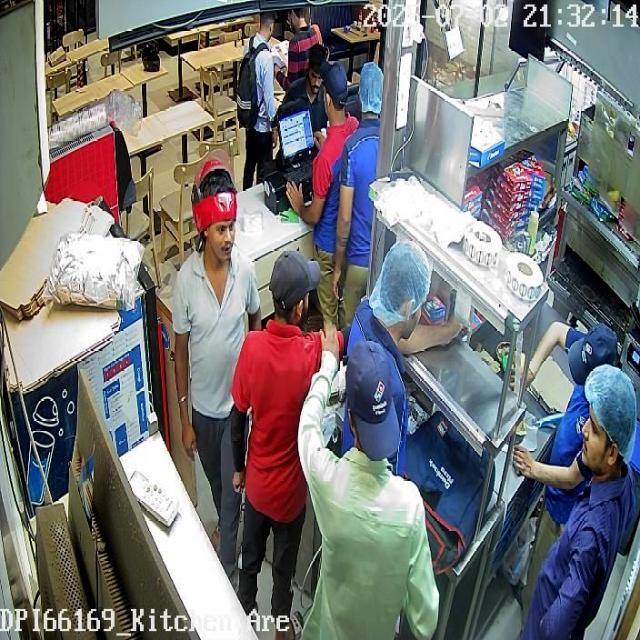helmet: (191, 148, 236, 232)
no_helmet: (580, 362, 636, 488)
